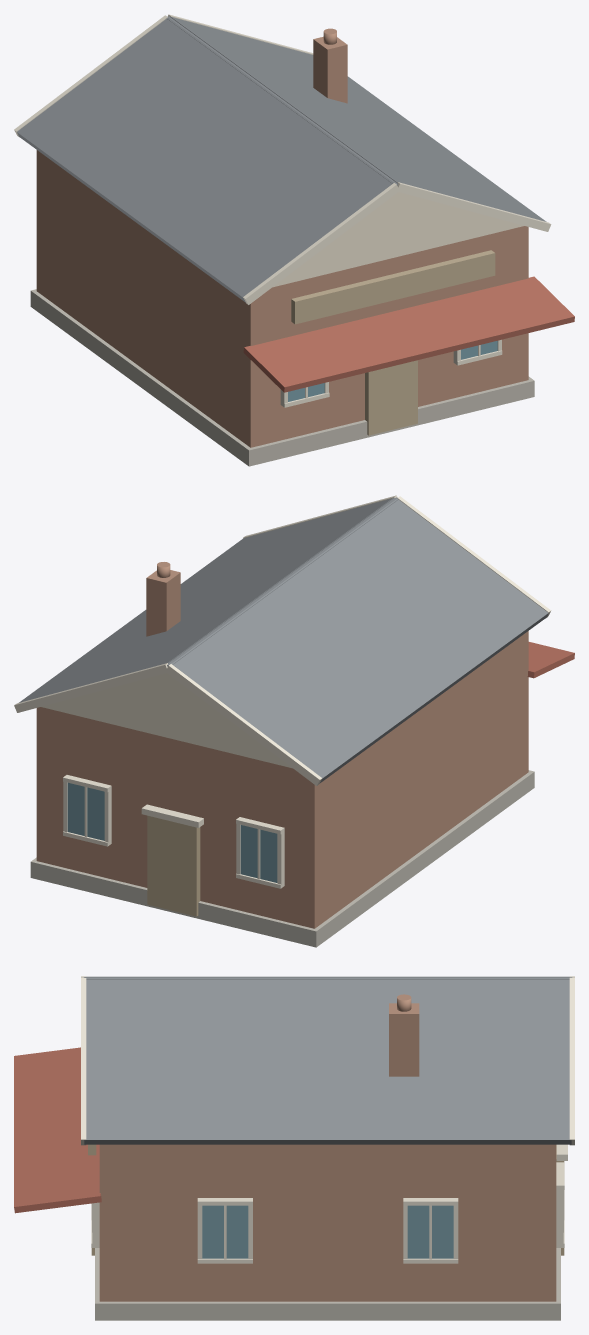
File: tyne-shop_lod0.glb
The picture shows the model from 3 angles, top to bottom: view 1: azimuth 30°, elevation 25°; view 2: azimuth 150°, elevation 25°; view 3: azimuth 270°, elevation 25°; orthographic projection. The views are drawn at different scales.
Parts seen in each view (by area): view 1: RF_Roof.001, RF_Body, RF_ShopAwning, RF_Roof, RF_Foundation, RF_Gable, RF_ShopSign, RF_Door.001, RF_Chimney, RF_Vergeband.001, RF_Vergeband.003, RF_Ridge (+1 smaller); view 2: RF_Body, RF_Roof.001, RF_Roof, RF_Foundation, RF_Gable.001, RF_Door, RF_Chimney, RF_Vergeband.002, RF_Window.004, RF_Window.003, RF_Vergeband, RF_Ridge (+3 smaller); view 3: RF_Roof, RF_Body, RF_ShopAwning, RF_Foundation, RF_Window.005, RF_Window, RF_Chimney, RF_Ridge, RF_Vergeband.003, RF_Vergeband, RF_WindowFrame.008, RF_Roof.001 (+2 smaller).
Part boxes in pixels (box(x1,y1,x2,y2)): RF_Roof.001: box(17, 17, 393, 302); RF_Body: box(36, 150, 528, 447); RF_ShopAwning: box(243, 276, 574, 392); RF_Roof: box(170, 16, 546, 221); RF_Foundation: box(30, 289, 534, 466); RF_Gable: box(273, 192, 523, 287); RF_ShopSign: box(291, 250, 495, 324); RF_Door.001: box(365, 360, 417, 435); RF_Chimney: box(313, 36, 347, 103); RF_Vergeband.001: box(243, 183, 399, 304); RF_Vergeband.003: box(397, 182, 551, 231); RF_Ridge: box(167, 16, 398, 185); RF_Body: box(36, 631, 528, 928); RF_Roof.001: box(171, 498, 548, 783); RF_Roof: box(19, 498, 394, 702); RF_Foundation: box(30, 770, 534, 947); RF_Gable.001: box(41, 673, 292, 768); RF_Door: box(147, 815, 200, 916); RF_Chimney: box(146, 570, 180, 636); RF_Vergeband.002: box(165, 664, 322, 785); RF_Window.004: box(67, 782, 104, 840); RF_Window.003: box(240, 825, 277, 882); RF_Vergeband: box(14, 663, 167, 712); RF_Ridge: box(167, 497, 398, 666); RF_Roof: box(84, 978, 571, 1144); RF_Body: box(99, 1144, 556, 1301); RF_ShopAwning: box(14, 1047, 101, 1213); RF_Foundation: box(95, 1248, 560, 1320); RF_Window.005: box(202, 1205, 248, 1258); RF_Window: box(407, 1205, 453, 1258); RF_Chimney: box(389, 1003, 419, 1076); RF_Ridge: box(84, 976, 572, 979); RF_Vergeband.003: box(81, 978, 86, 1145); RF_Vergeband: box(569, 978, 574, 1145); RF_WindowFrame.008: box(556, 1184, 563, 1247); RF_Roof.001: box(84, 977, 571, 977).
Size of the model in its own units: 9.91 by 8.47 by 14.74.
